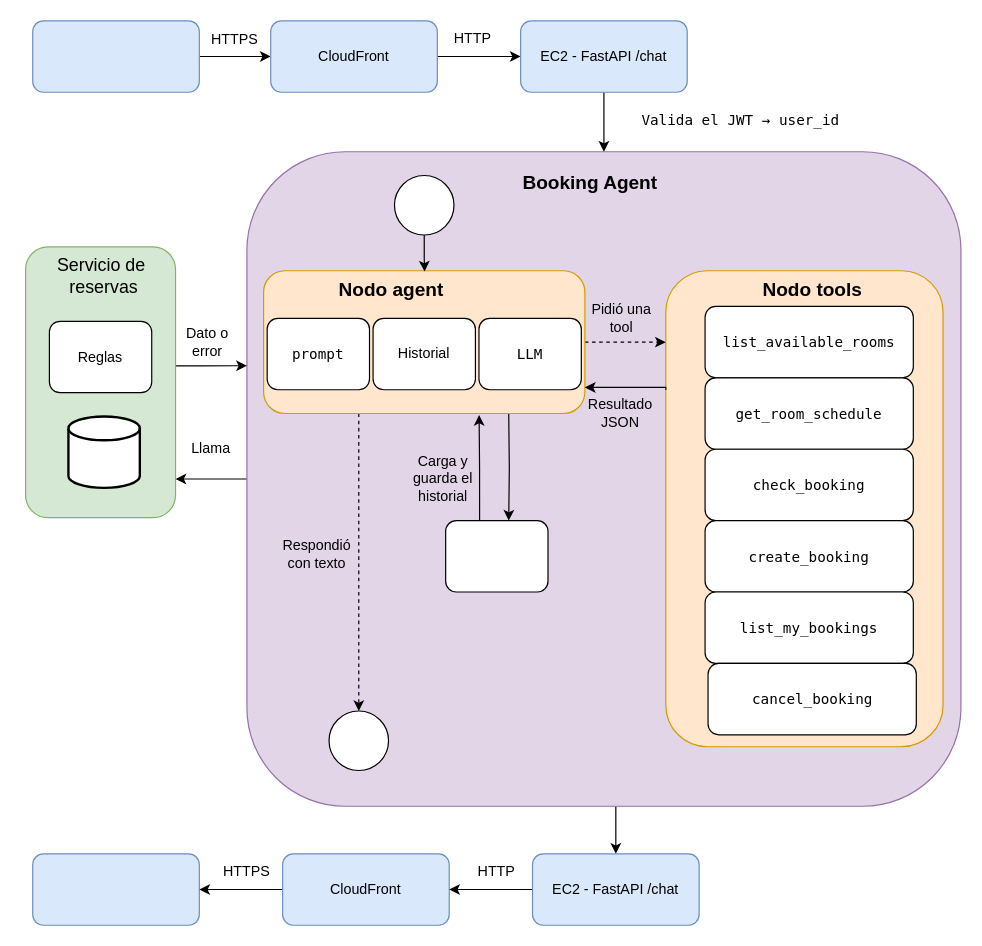
The diagram is 982 pixels wide and 946 high, and some of its shapes have lost their labels. The box of each missing label's shape, as (x1, y1, x2, y2) in pixels:
END: (328, 710, 389, 771)
Memory Saver: (444, 519, 548, 592)
Mensaje del usuario desde el navegador: (32, 20, 199, 92)
Postgres: (67, 415, 140, 488)
Respuesta al usuario visible en su navegador: (32, 853, 199, 925)
START: (393, 174, 454, 235)
